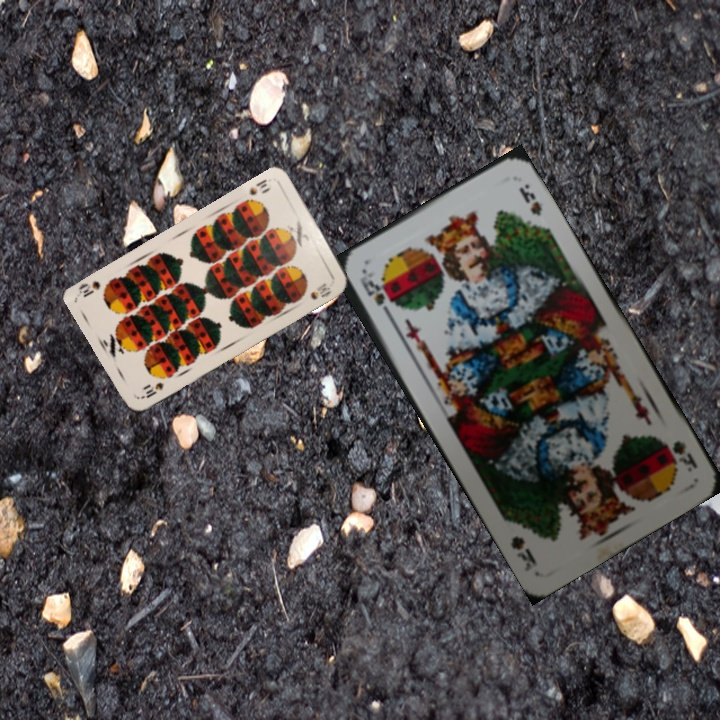S10: (245, 175, 274, 198), (137, 378, 166, 401)
SK: (355, 267, 395, 322), (660, 436, 701, 475)
